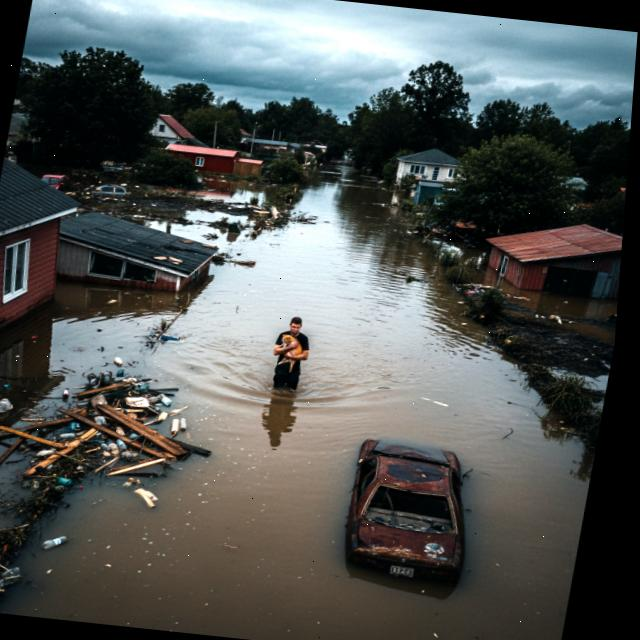cat: (266, 328, 313, 375)
civilian: (260, 308, 324, 402)
